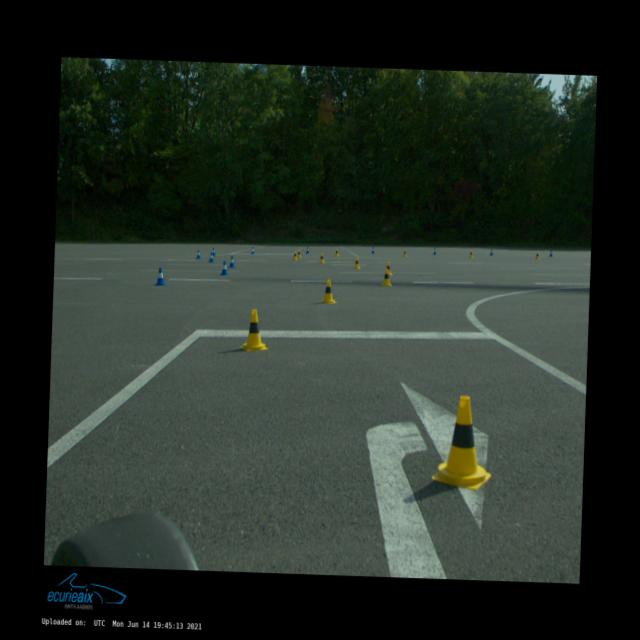blue_cone: (154, 268, 167, 286), (220, 260, 229, 274), (228, 255, 236, 268), (208, 252, 214, 262), (211, 247, 216, 255), (196, 249, 200, 258), (488, 248, 493, 255), (432, 248, 437, 255), (370, 246, 374, 254), (250, 246, 254, 254), (548, 249, 552, 256), (305, 246, 309, 253)
yellow_cone: (432, 396, 493, 490), (240, 309, 268, 351), (321, 280, 337, 304), (381, 269, 392, 286), (384, 262, 392, 274), (353, 256, 360, 268), (318, 252, 324, 263), (292, 250, 298, 260), (534, 251, 540, 259), (468, 248, 473, 256), (402, 249, 407, 257), (334, 248, 339, 256), (296, 248, 301, 256)
